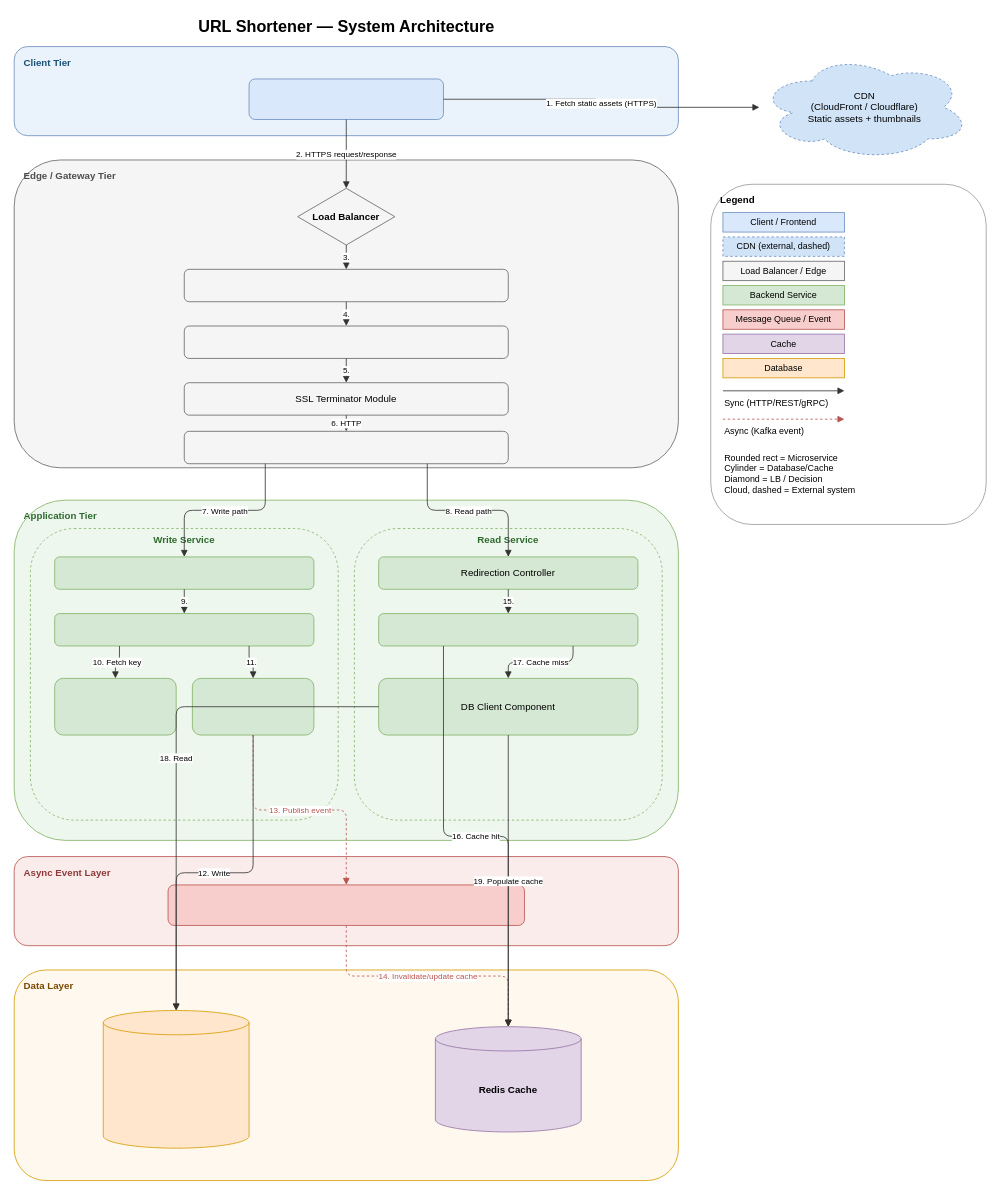
Image size: 1000x1195. Some labels were removed from this diagram. Each missing label, with the centre of its shape:
"API Gateway (N instances)" goes at pixel 345 285.
"Browser / Mobile SPA Application" goes at pixel 345 98.
"Cache Client Component" goes at pixel 508 629.
"DB Writer" goes at pixel 253 706.
"Event Producer (Kafka)" goes at pixel 345 904.
"Key Generation Service (KGS)" goes at pixel 115 706.
"Main Database (NoSQL)" goes at pixel 175 1079.
"Rate Limiter Module" goes at pixel 345 341.
"Request Router Module" goes at pixel 345 447.
"REST Controller" goes at pixel 184 572.
"URL Shortener Logic" goes at pixel 184 629.
